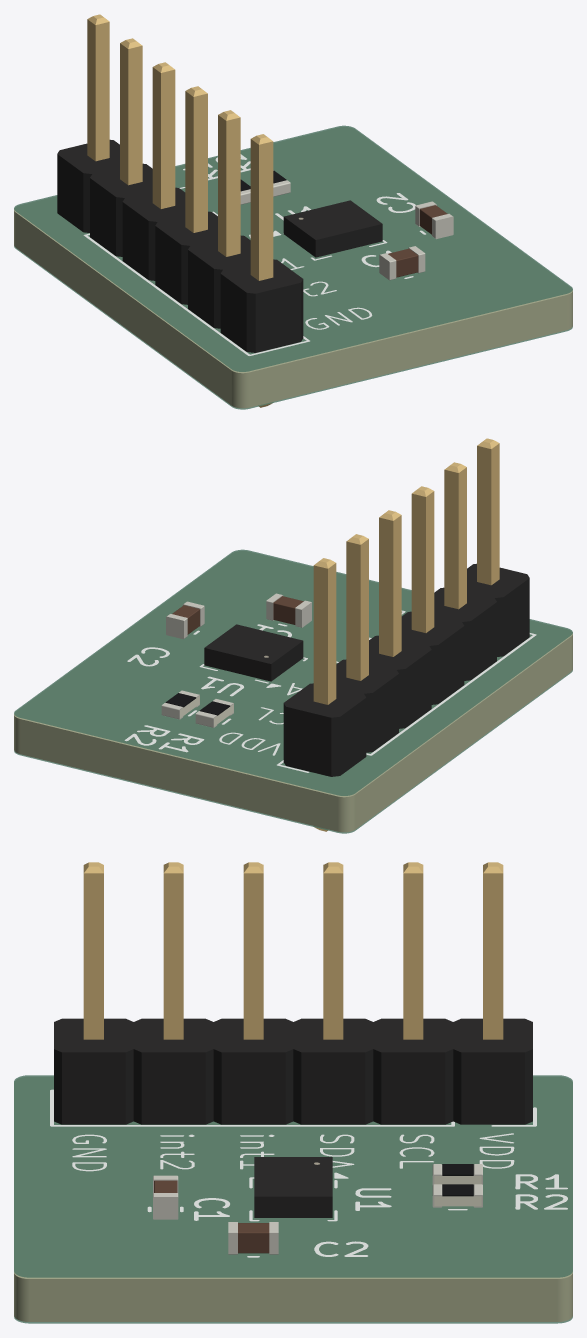
Rendered from imu.glb.
3 views of the same model, one above another, from view 1: azimuth 30°, elevation 25°; view 2: azimuth 150°, elevation 25°; view 3: azimuth 270°, elevation 25° (orthographic). The views are drawn at different scales.
Parts seen in each view (by area): view 1: =>[0:1:1:10], =>[0:1:1:8], J1, U1, =>[0:1:1:6], C1, C2, =>[0:1:1:9]; view 2: =>[0:1:1:10], J1, =>[0:1:1:8], U1, =>[0:1:1:6], C1, C2, =>[0:1:1:9], R2, R1; view 3: =>[0:1:1:10], =>[0:1:1:8], J1, =>[0:1:1:6], U1, C2, R2, C1, =>[0:1:1:9], R1.
Boxes of the visible parts, x1,y1,x2,y2 form: =>[0:1:1:10]: (14,127,572,408); =>[0:1:1:8]: (14,125,572,371); J1: (57,14,303,407); U1: (283,200,382,257); =>[0:1:1:6]: (83,154,425,355); C1: (379,246,425,280); C2: (415,201,453,239); =>[0:1:1:9]: (14,246,572,409); =>[0:1:1:10]: (14,551,572,832); J1: (283,438,529,831); =>[0:1:1:8]: (14,549,572,795); U1: (204,624,303,681); =>[0:1:1:6]: (124,610,536,772); C1: (266,593,311,627); C2: (166,601,204,639); =>[0:1:1:9]: (14,670,572,833); R2: (161,690,199,719); R1: (195,699,233,727); =>[0:1:1:10]: (14,1077,572,1321); =>[0:1:1:8]: (14,1075,572,1277); J1: (54,862,532,1124); =>[0:1:1:6]: (50,1089,567,1257); U1: (254,1157,332,1217); C2: (228,1222,278,1254); R2: (432,1184,482,1207); C1: (153,1175,178,1219); =>[0:1:1:9]: (14,1316,572,1323); R1: (432,1164,482,1184).
Bounding box in the file's own units: 0.0152 × 0.0115 × 0.0178.
